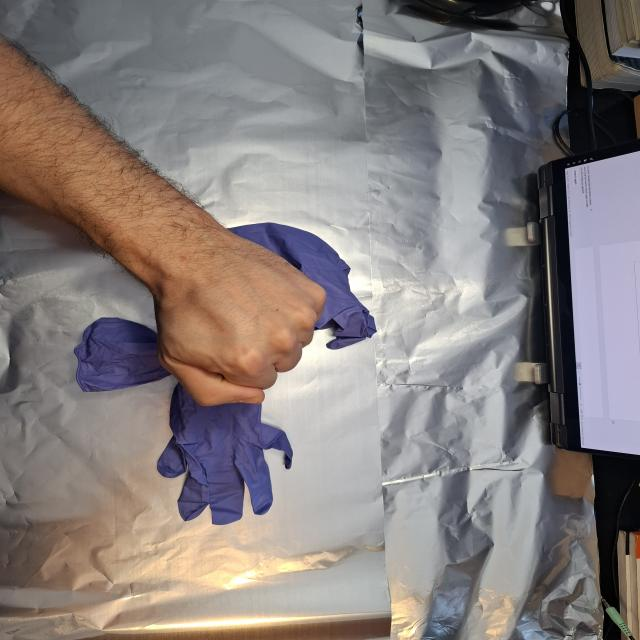glove_off: (149, 225, 329, 409)
